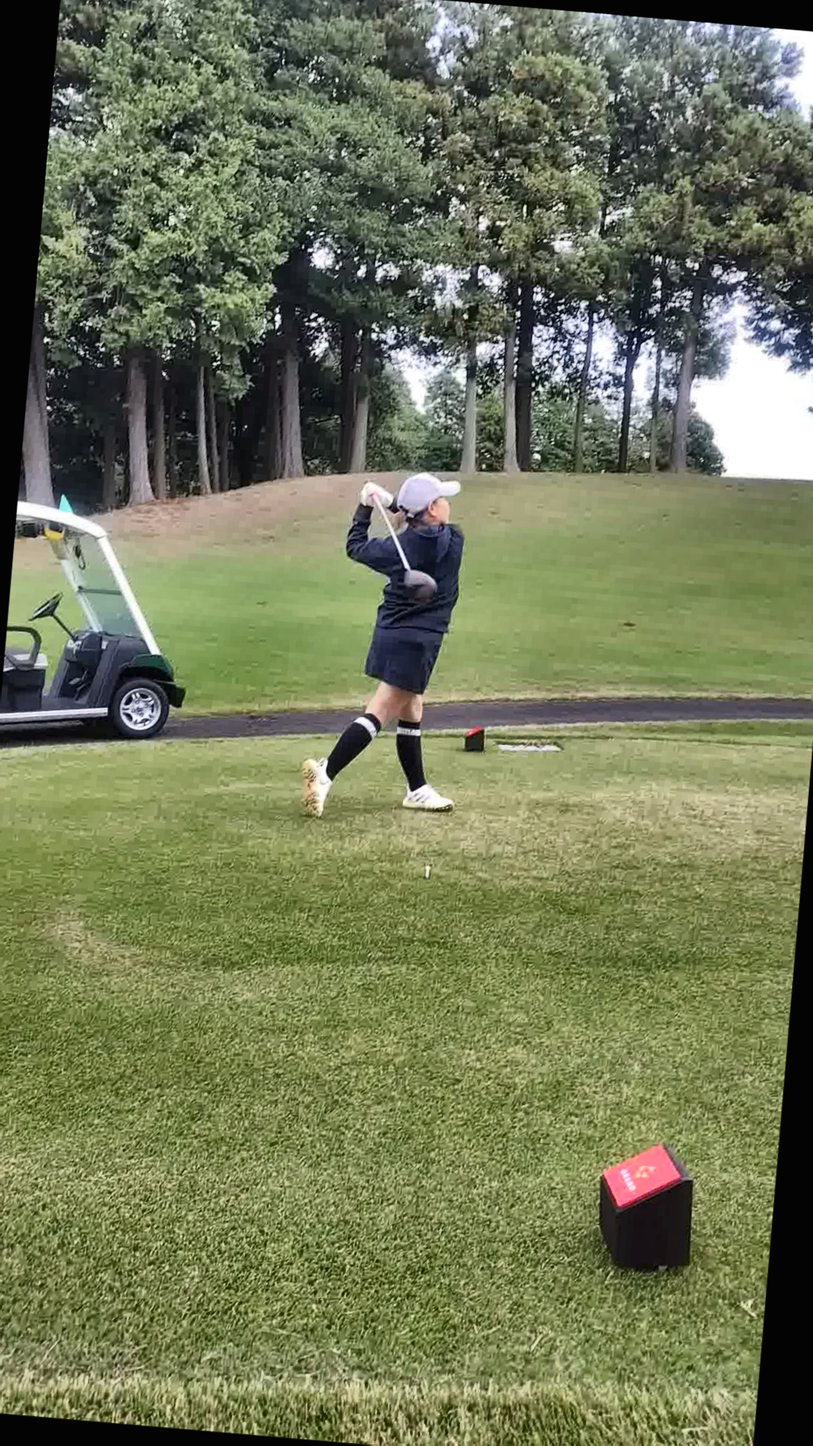clubhead: (388, 553, 506, 680)
